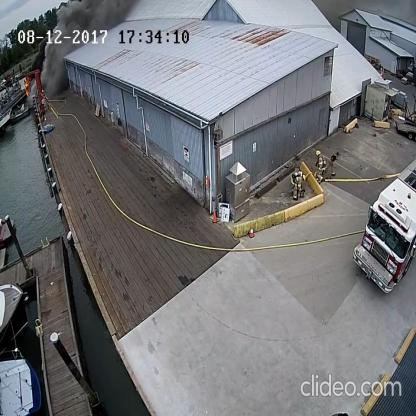fire: (22, 72, 32, 100)
